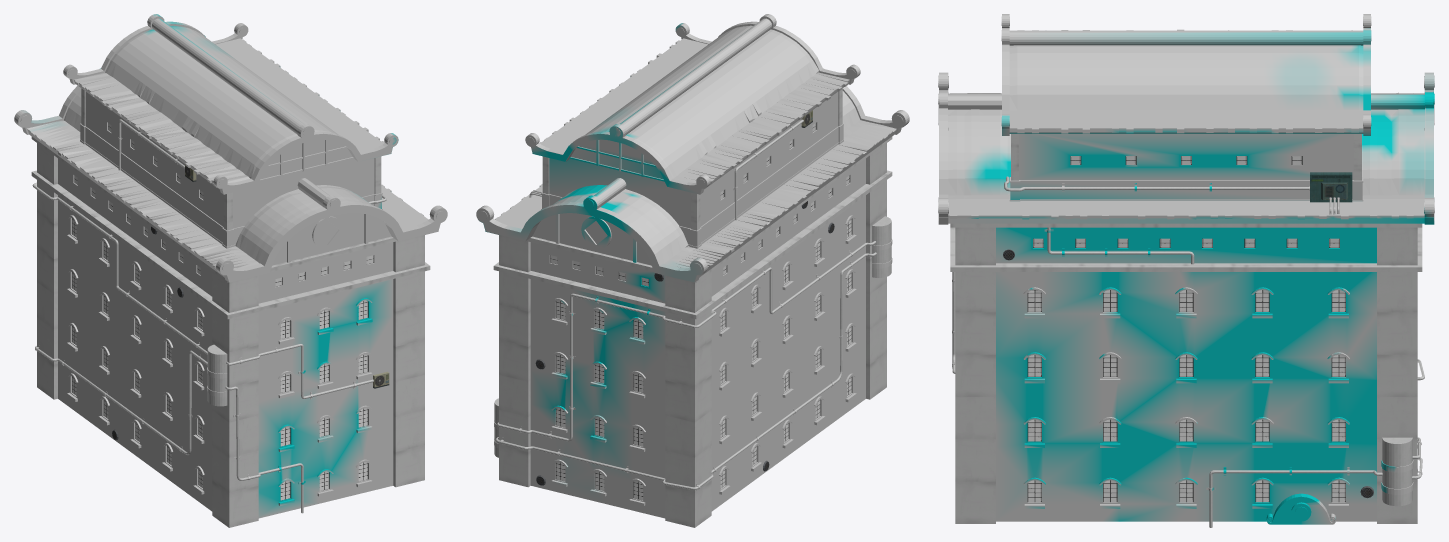
Rendered from SM_ENV_KNVLLG_AreaA_Building_A.mo.fbx.
3 views of the same model, side by side, from view 1: azimuth 30°, elevation 25°; view 2: azimuth 150°, elevation 25°; view 3: azimuth 270°, elevation 25° (orthographic). The views are drawn at different scales.
Parts seen in each view (by area): view 1: SM_ENV_KNVLLG_AreaA_Building_A.mo; view 2: SM_ENV_KNVLLG_AreaA_Building_A.mo; view 3: SM_ENV_KNVLLG_AreaA_Building_A.mo.
Part boxes in pixels (<box>): SM_ENV_KNVLLG_AreaA_Building_A.mo: <box>14,14,447,527</box>; SM_ENV_KNVLLG_AreaA_Building_A.mo: <box>476,14,909,527</box>; SM_ENV_KNVLLG_AreaA_Building_A.mo: <box>938,14,1434,527</box>.
Bounding box in the file's own units: 23.27 × 35.9 × 36.49.
